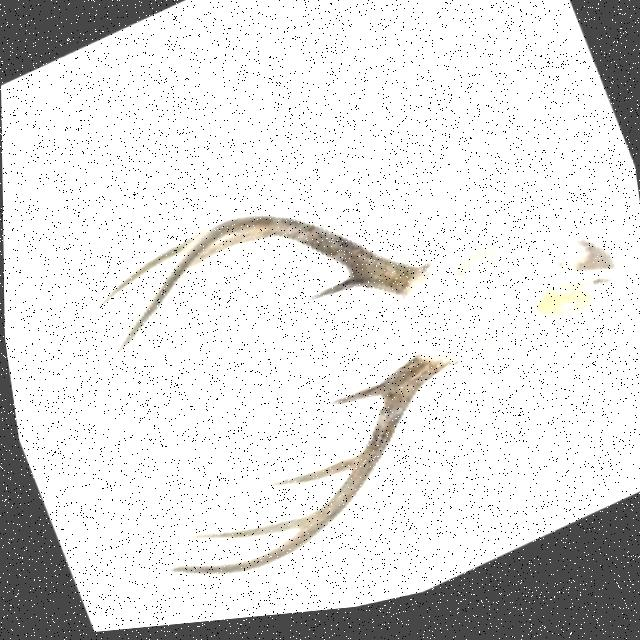L-F: (162, 354, 455, 580)
L-G1: (321, 385, 383, 412)
L-G2: (254, 457, 359, 494)
L-G3: (179, 514, 316, 543)
R-F: (110, 217, 429, 359)
R-G1: (298, 281, 358, 309)
